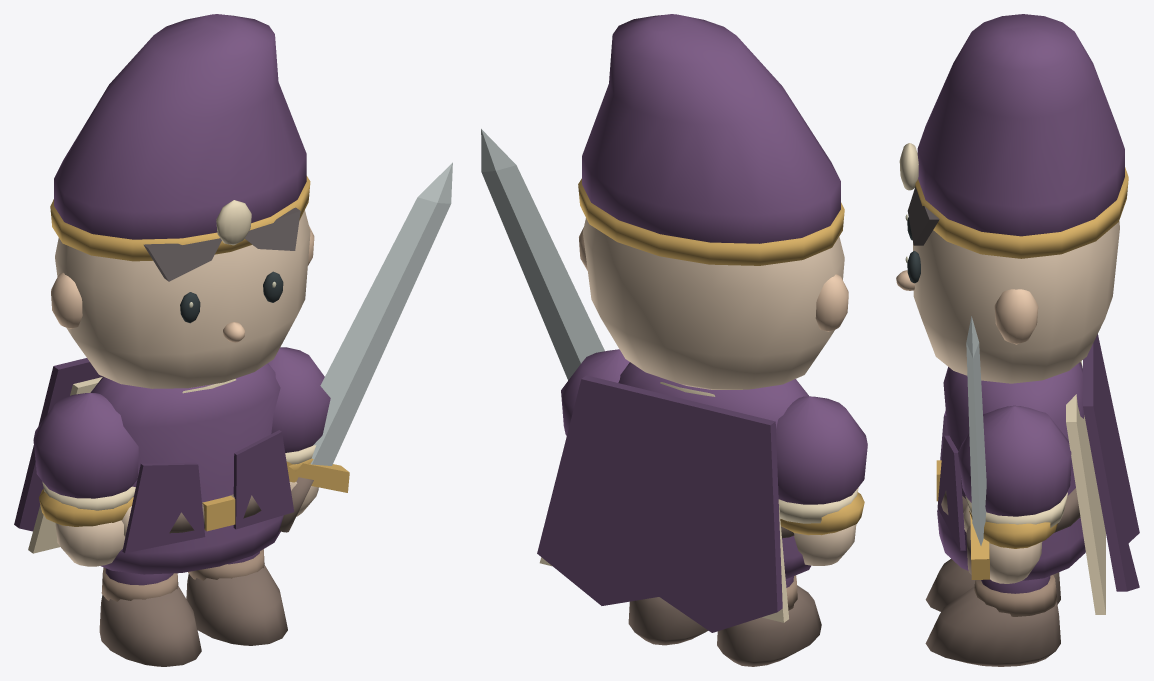
The model's file is giant.glb.
3 views of the same model, side by side, from view 1: azimuth 30°, elevation 25°; view 2: azimuth 150°, elevation 25°; view 3: azimuth 270°, elevation 25° (orthographic). The views are drawn at different scales.
Parts seen in each view (by area): view 1: Folded Persian tiara, Soft cheek head, Short folded tunic, Shaped bevel sword, Puff sleeve, Round leather boot, Round leather boot.001, Coat fold, Puff sleeve.001, Coat fold.001, Tiara gold band, Short scalloped cape (+14 smaller); view 2: Short scalloped cape, Folded Persian tiara, Soft cheek head, Shaped bevel sword, Puff sleeve, Tiara gold band, Short folded tunic, Round leather boot, Round leather boot.001, Puff sleeve.001, Little mitten, Ear (+3 smaller); view 3: Folded Persian tiara, Soft cheek head, Puff sleeve.001, Short folded tunic, Round leather boot.001, Short scalloped cape, Tiara gold band, Persian shoulder drape, Shaped bevel sword, Coat fold.001, Ear.001, Boot turn cuff.001 (+10 smaller).
Part boxes in pixels (bbox=[...]): Folded Persian tiara: bbox=[54, 14, 306, 239]; Soft cheek head: bbox=[55, 210, 310, 388]; Short folded tunic: bbox=[90, 363, 283, 574]; Shaped bevel sword: bbox=[310, 162, 452, 465]; Puff sleeve: bbox=[33, 393, 138, 498]; Round leather boot: bbox=[99, 585, 201, 666]; Round leather boot.001: bbox=[186, 564, 287, 645]; Coat fold: bbox=[122, 462, 205, 553]; Puff sleeve.001: bbox=[268, 347, 330, 452]; Coat fold.001: bbox=[233, 430, 294, 529]; Tiara gold band: bbox=[50, 176, 310, 261]; Short scalloped cape: bbox=[14, 358, 102, 531]; Short scalloped cape: bbox=[537, 375, 782, 632]; Folded Persian tiara: bbox=[582, 14, 840, 243]; Soft cheek head: bbox=[583, 218, 844, 389]; Shaped bevel sword: bbox=[481, 129, 604, 380]; Puff sleeve: bbox=[776, 396, 867, 504]; Tiara gold band: bbox=[578, 178, 844, 265]; Short folded tunic: bbox=[618, 362, 810, 578]; Round leather boot: bbox=[717, 585, 821, 666]; Round leather boot.001: bbox=[628, 597, 708, 645]; Puff sleeve.001: bbox=[561, 349, 629, 435]; Little mitten: bbox=[794, 524, 856, 565]; Ear: bbox=[815, 274, 848, 331]; Folded Persian tiara: bbox=[917, 14, 1124, 236]; Soft cheek head: bbox=[913, 221, 1119, 383]; Puff sleeve.001: bbox=[958, 405, 1071, 516]; Short folded tunic: bbox=[937, 362, 1085, 580]; Round leather boot.001: bbox=[925, 586, 1060, 666]; Short scalloped cape: bbox=[1083, 334, 1139, 591]; Tiara gold band: bbox=[915, 167, 1128, 258]; Persian shoulder drape: bbox=[1066, 361, 1105, 614]; Shaped bevel sword: bbox=[966, 316, 986, 545]; Coat fold.001: bbox=[937, 435, 965, 550]; Ear.001: bbox=[994, 289, 1038, 344]; Boot turn cuff.001: bbox=[974, 575, 1057, 616].
Size of the model in its own units: 1.65 by 2.41 by 0.8564.
